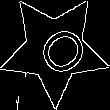O_SW: (22, 17, 87, 82)
